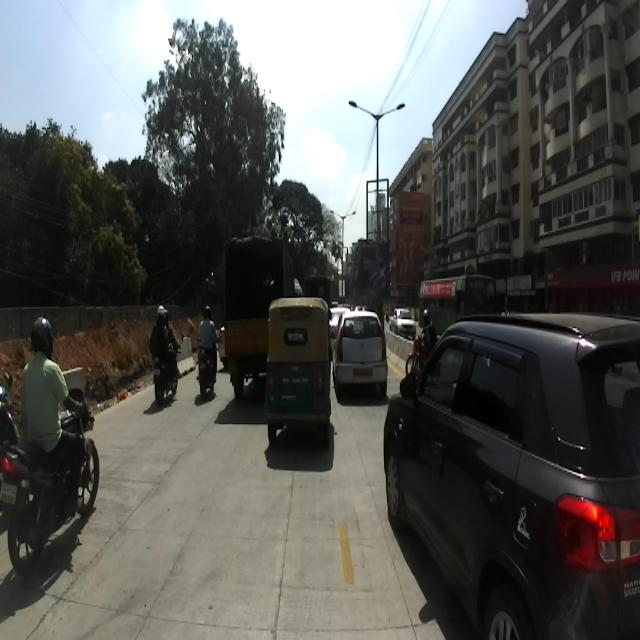auto ahead at: (268, 299, 336, 465)
car ahead at: (382, 310, 640, 640), (338, 308, 389, 397)
motorcycle ahead at: (0, 427, 105, 561)
